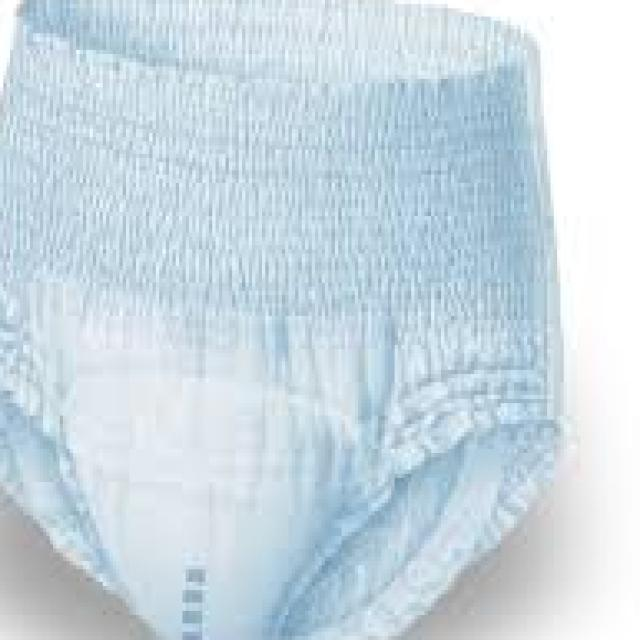organic: (12, 20, 602, 634)
